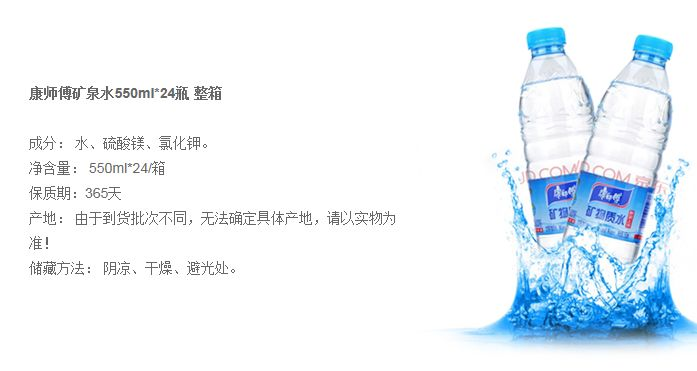amwater: (511, 19, 682, 328)
